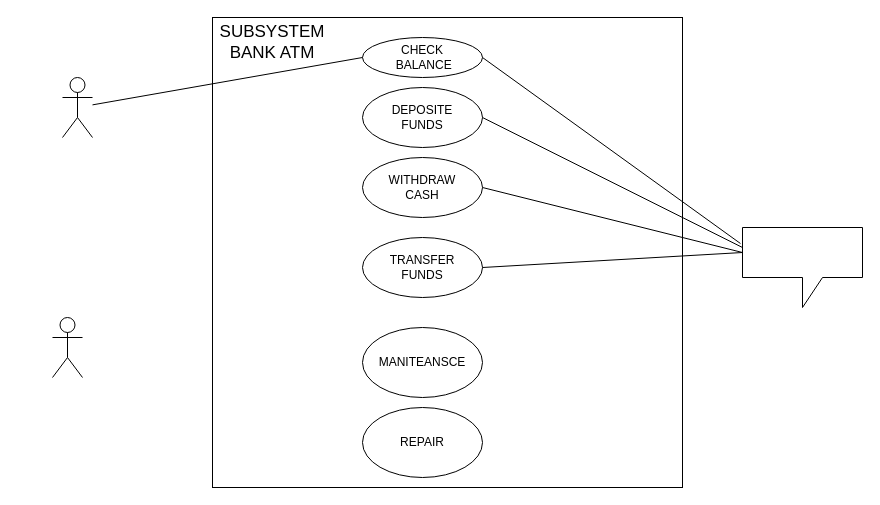
Image size: 880x505. Some labels were removed from this diagram. Each missing label, with the centre of its shape:
"ATM TECHNICIAN" goes at point (67, 347).
"BANK" goes at point (802, 267).
"CUSTOMER" goes at point (77, 107).
